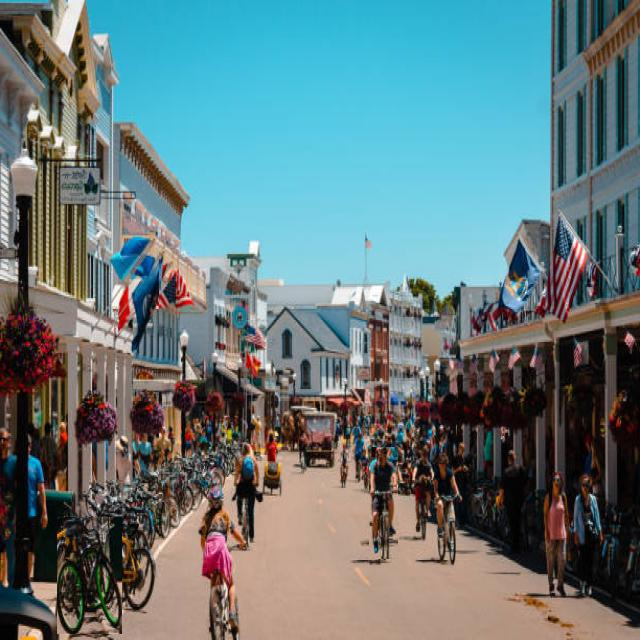bicycle: (57, 517, 121, 634), (369, 448, 398, 559), (432, 454, 461, 563)
